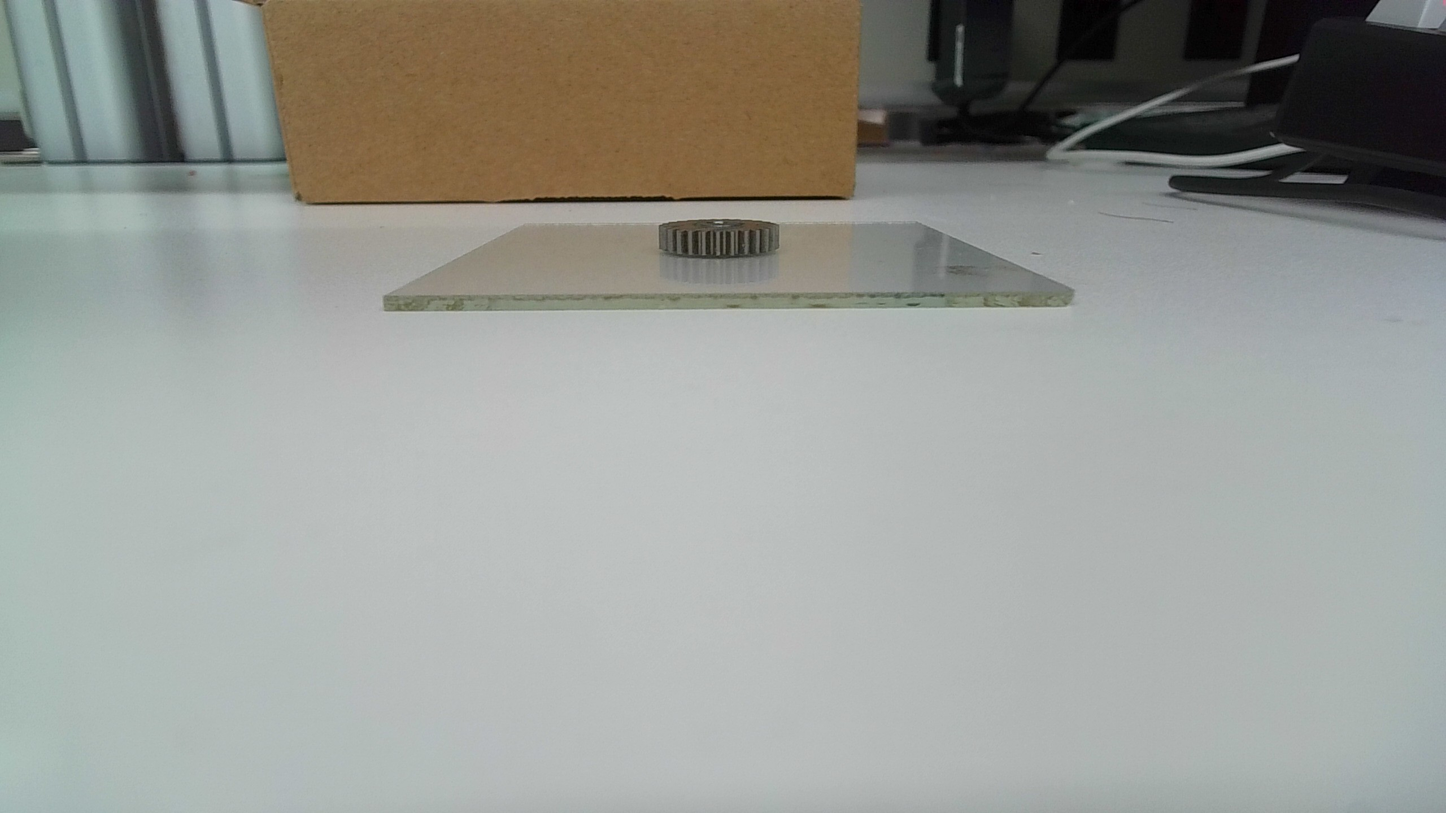gear: (657, 218, 783, 259)
